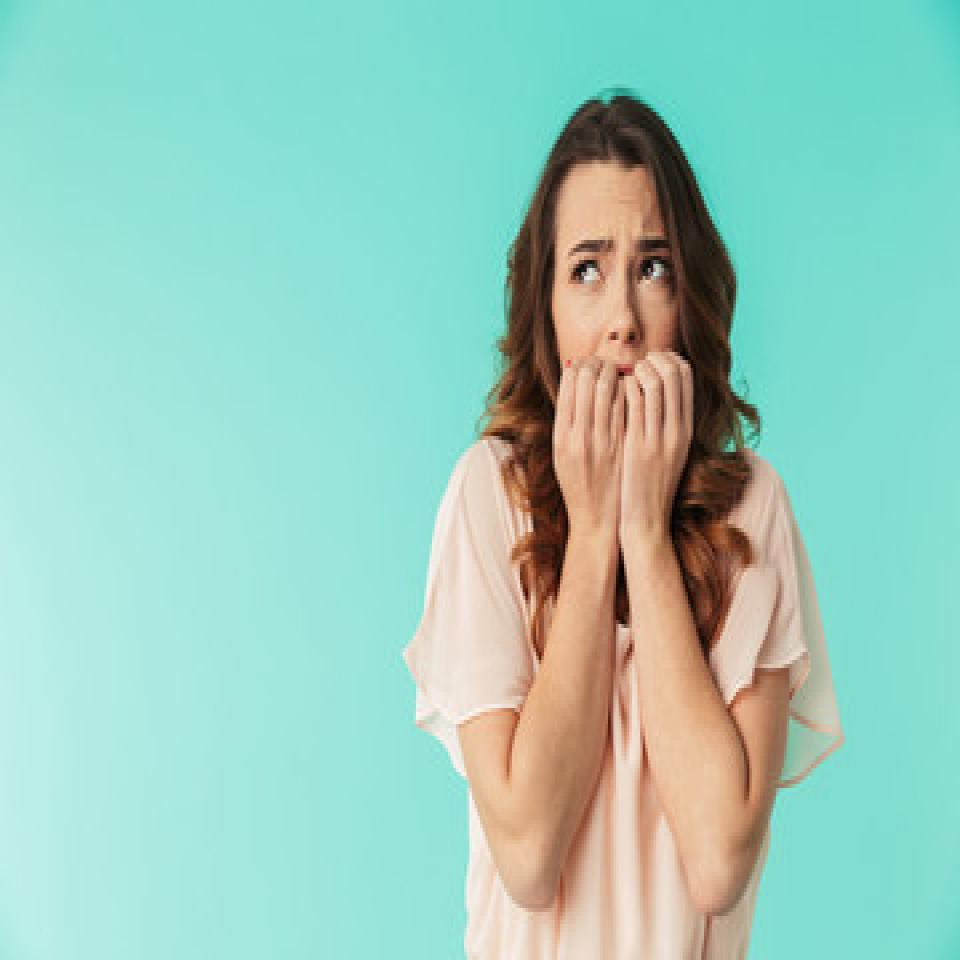Scared: (552, 161, 695, 496)
